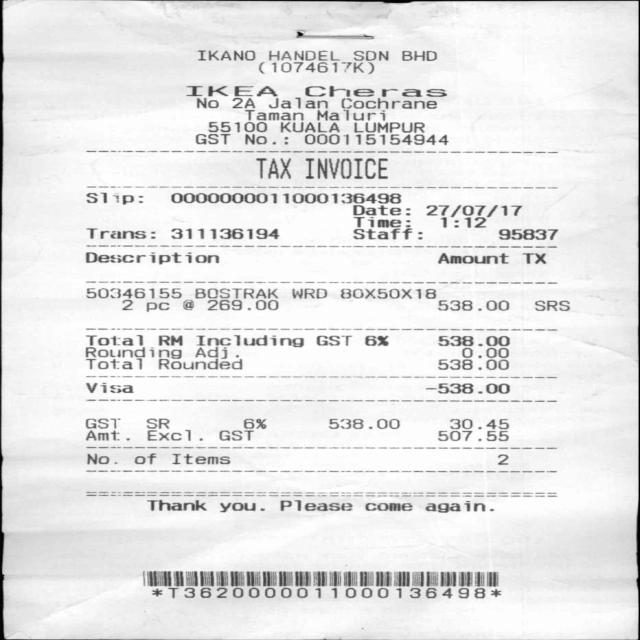text: (152, 586, 500, 598), (170, 192, 400, 204), (304, 158, 388, 178), (83, 252, 219, 264), (304, 85, 446, 96), (304, 134, 447, 144), (258, 62, 373, 74), (195, 334, 301, 346), (84, 346, 180, 358), (170, 228, 278, 238), (340, 97, 435, 108), (185, 85, 276, 96), (425, 205, 523, 215), (339, 288, 435, 298), (158, 358, 242, 369), (194, 287, 277, 298), (85, 288, 180, 297), (425, 383, 510, 393), (425, 500, 494, 512), (280, 500, 352, 511), (352, 228, 422, 239), (438, 252, 508, 263), (206, 299, 276, 310), (438, 299, 508, 310), (316, 109, 384, 120), (267, 50, 338, 60), (353, 122, 424, 132), (498, 228, 557, 240), (256, 158, 291, 178), (438, 335, 508, 345), (328, 418, 398, 428), (437, 430, 507, 440), (85, 192, 142, 204), (85, 228, 153, 238), (146, 499, 207, 510), (268, 97, 327, 108), (352, 216, 411, 227), (449, 418, 508, 429), (170, 453, 229, 464), (208, 121, 266, 132), (280, 121, 338, 132), (245, 109, 302, 120), (352, 204, 409, 215), (85, 334, 142, 345), (84, 358, 141, 369), (147, 429, 201, 440), (197, 50, 254, 60), (84, 382, 132, 393), (195, 346, 238, 358), (461, 347, 507, 358), (244, 133, 287, 144), (440, 217, 486, 227), (218, 502, 263, 512), (84, 430, 128, 440), (365, 502, 412, 511), (194, 133, 230, 144), (350, 50, 388, 60), (400, 50, 435, 60), (291, 288, 326, 298), (533, 300, 568, 310), (315, 335, 350, 345), (218, 430, 253, 440), (437, 358, 468, 369), (84, 418, 118, 428), (521, 252, 547, 264), (476, 359, 506, 369), (241, 417, 265, 429), (85, 453, 109, 464), (196, 97, 218, 108), (157, 335, 181, 345), (232, 97, 253, 108), (364, 335, 387, 345), (146, 418, 168, 428), (134, 453, 156, 463), (146, 302, 168, 311), (495, 454, 508, 465), (121, 299, 131, 309), (182, 299, 192, 309)
